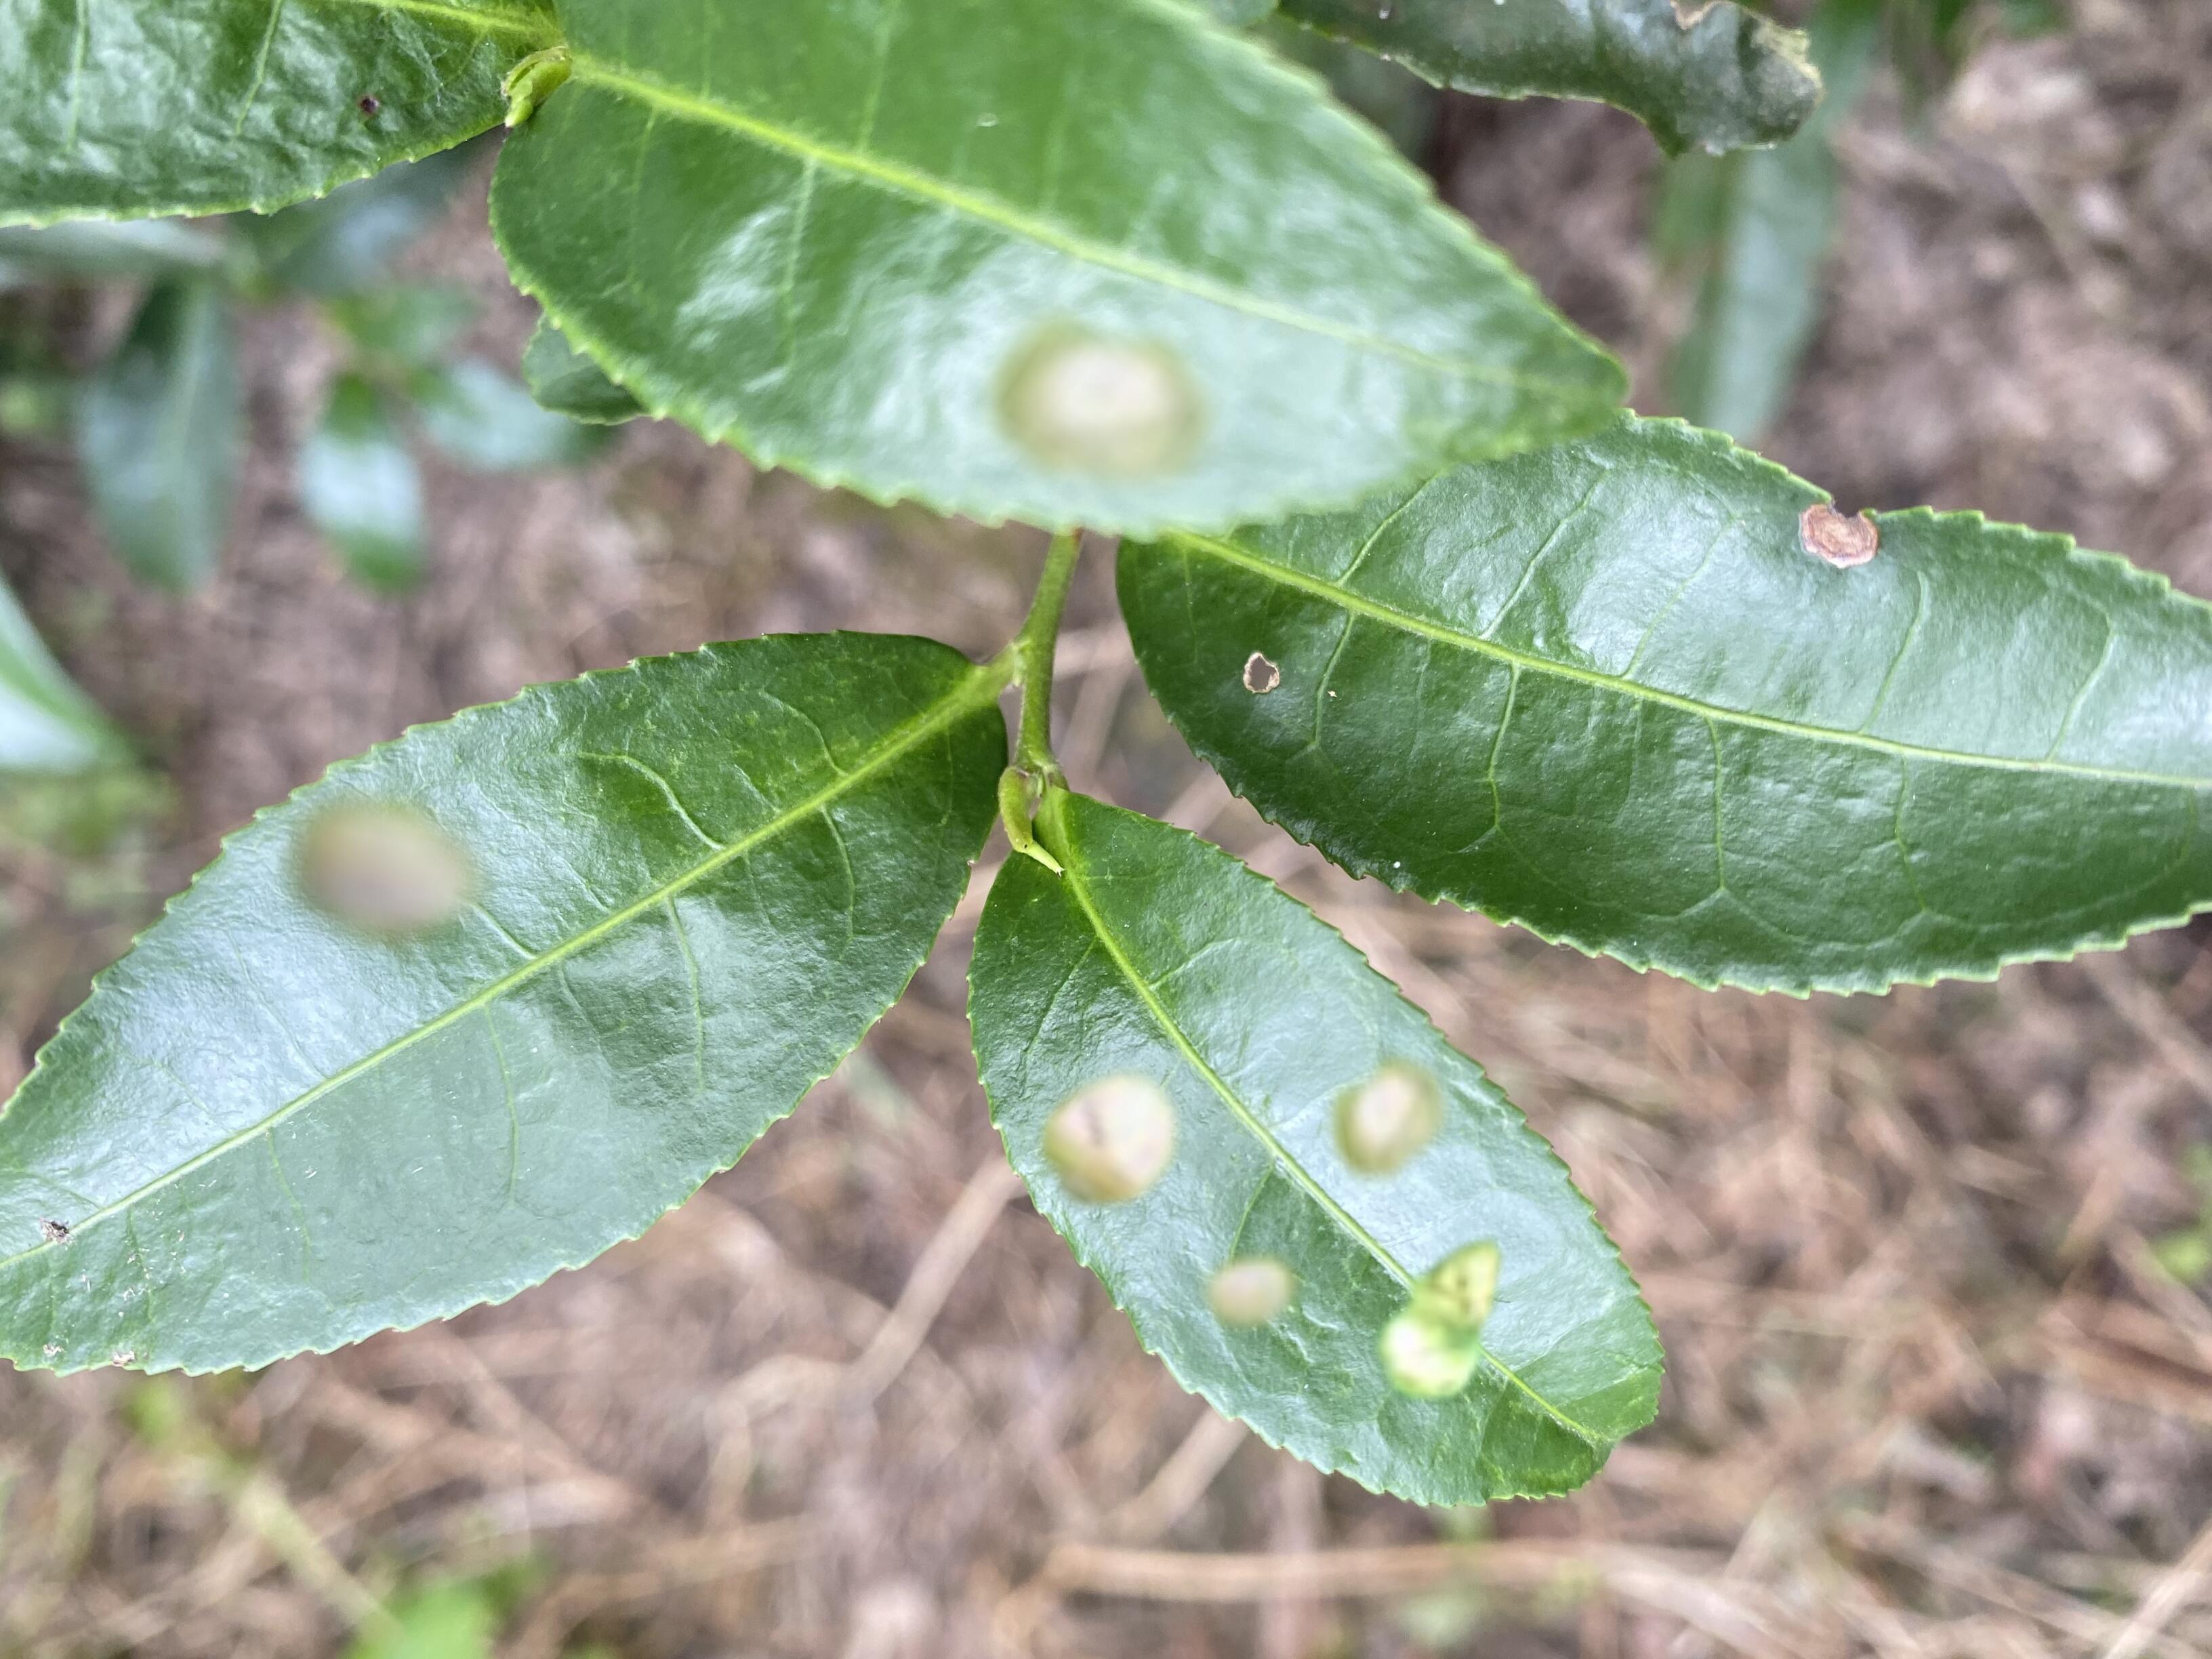chabing_high: (967, 803, 1667, 1511)
chabing_low: (2, 629, 1010, 1377), (486, 2, 1632, 547)
tanju_low: (1118, 408, 2210, 1004)
